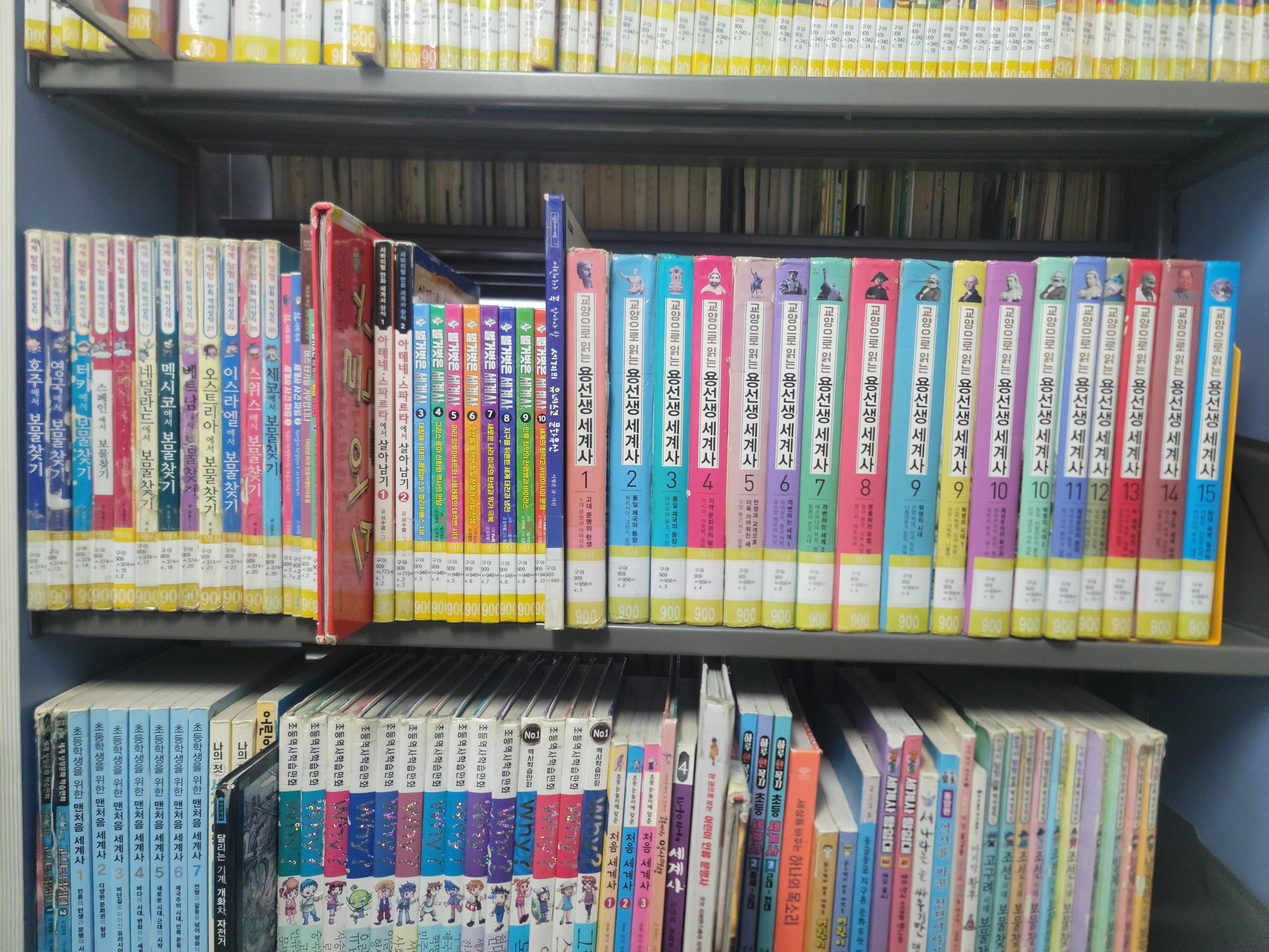book-spine: (879, 260, 953, 635), (963, 261, 1036, 639), (1133, 260, 1204, 641), (1174, 262, 1242, 641), (832, 258, 900, 632), (1010, 258, 1072, 639), (1043, 258, 1104, 641), (1101, 261, 1162, 639), (929, 260, 987, 636), (794, 259, 851, 632), (1075, 258, 1129, 640), (722, 259, 774, 627), (759, 259, 810, 628), (683, 257, 733, 626), (608, 256, 655, 624), (648, 256, 693, 627), (567, 249, 606, 628), (42, 234, 69, 609), (156, 237, 180, 610), (134, 238, 158, 609), (24, 230, 47, 612), (112, 234, 135, 609), (198, 238, 221, 611), (545, 193, 564, 630), (91, 236, 113, 610), (220, 239, 242, 612), (242, 239, 263, 613), (178, 237, 199, 610), (71, 237, 92, 609), (373, 236, 393, 622), (262, 242, 281, 616), (394, 237, 412, 620), (480, 305, 498, 624), (413, 304, 431, 620), (516, 309, 534, 620), (463, 305, 480, 622), (499, 307, 516, 622), (446, 304, 462, 622), (431, 304, 446, 621), (301, 253, 312, 620), (535, 313, 548, 623), (292, 264, 301, 617)
